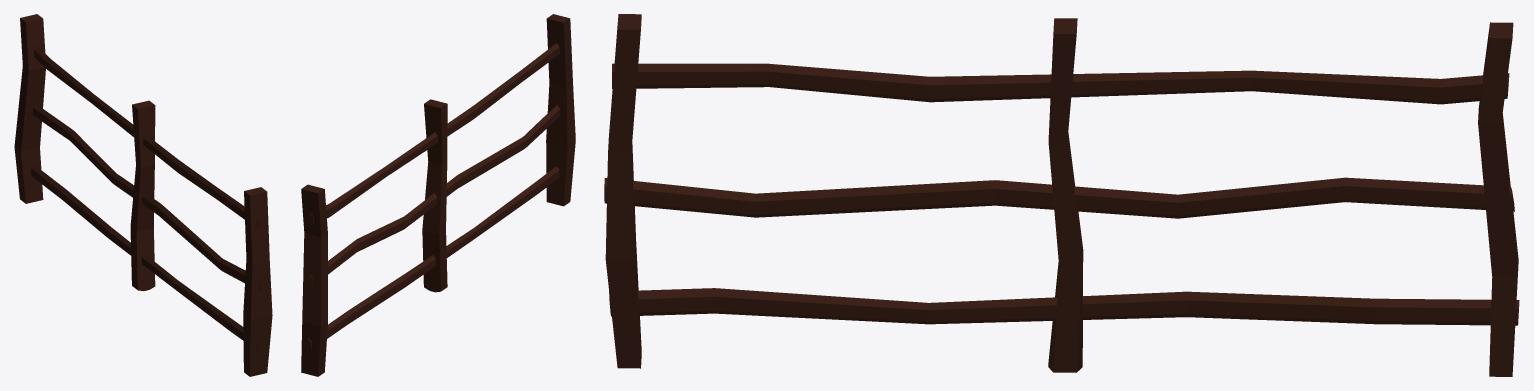
The model's file is valla1.fbx.
The picture shows the model from 3 angles, left to right: view 1: azimuth 30°, elevation 25°; view 2: azimuth 150°, elevation 25°; view 3: azimuth 270°, elevation 25°; orthographic projection. The views are drawn at different scales.
Parts seen in each view (by area): view 1: long fence v:199 f:175; view 2: long fence v:199 f:175; view 3: long fence v:199 f:175.
Part boxes in pixels (x1,y1,x2,y2): long fence v:199 f:175: [14, 14, 272, 376]; long fence v:199 f:175: [301, 14, 575, 376]; long fence v:199 f:175: [604, 14, 1519, 376].
Bounding box in the file's own units: 53.63 × 324 × 785.
